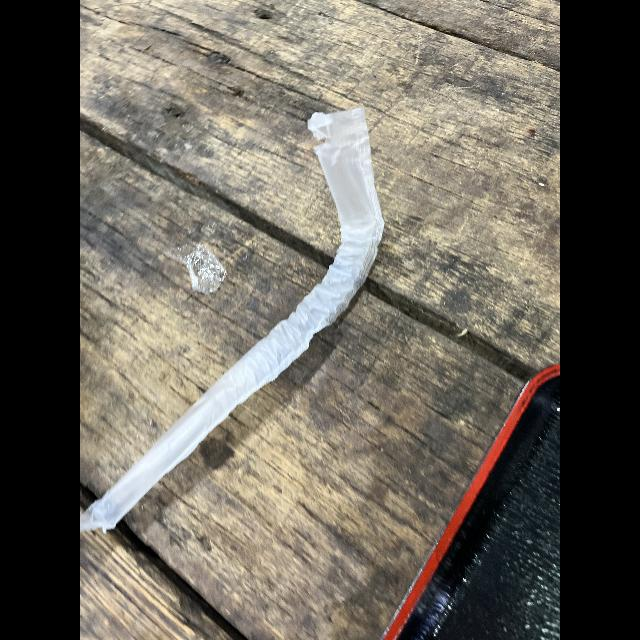scrap_plastic: (80, 100, 376, 538)
